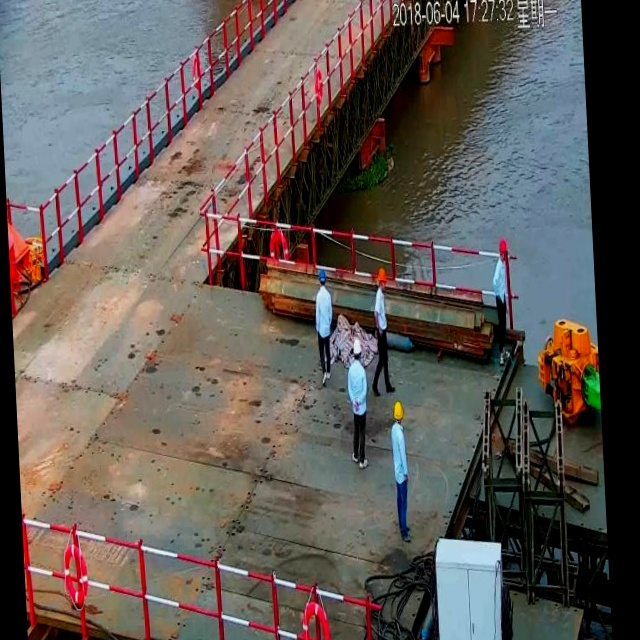Con_Casco: (393, 400, 404, 425), (378, 267, 389, 289), (353, 338, 362, 359)
